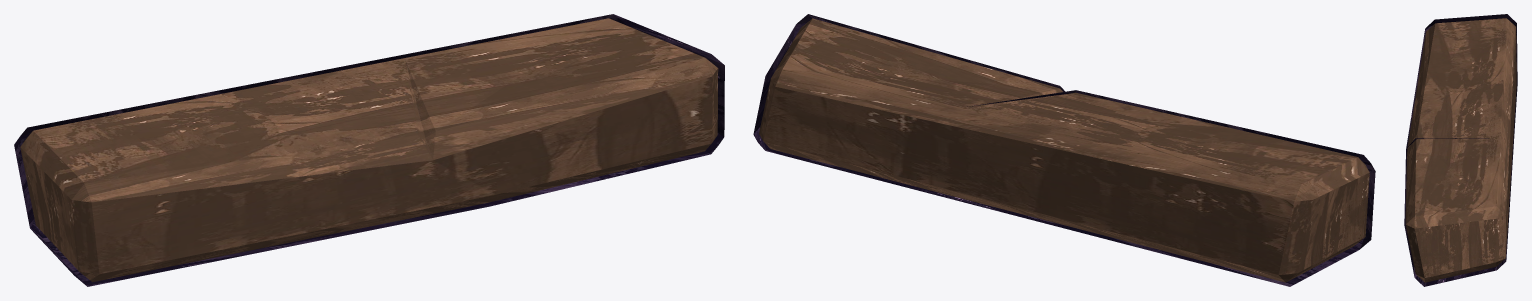
File: brick-step-01-art.glb
3 views of the same model, side by side, from view 1: azimuth 30°, elevation 25°; view 2: azimuth 150°, elevation 25°; view 3: azimuth 270°, elevation 25° (orthographic). The views are drawn at different scales.
Parts seen in each view (by area): view 1: Brick_Step_01_Art; view 2: Brick_Step_01_Art; view 3: Brick_Step_01_Art.
Part boxes in pixels (x1,y1,x2,y2): Brick_Step_01_Art: [14, 14, 724, 286]; Brick_Step_01_Art: [753, 14, 1375, 286]; Brick_Step_01_Art: [1404, 14, 1517, 286].
Size of what is drawn, in the model's own units: 5.82 by 1.11 by 1.39.
2 materials, 2 textured.
